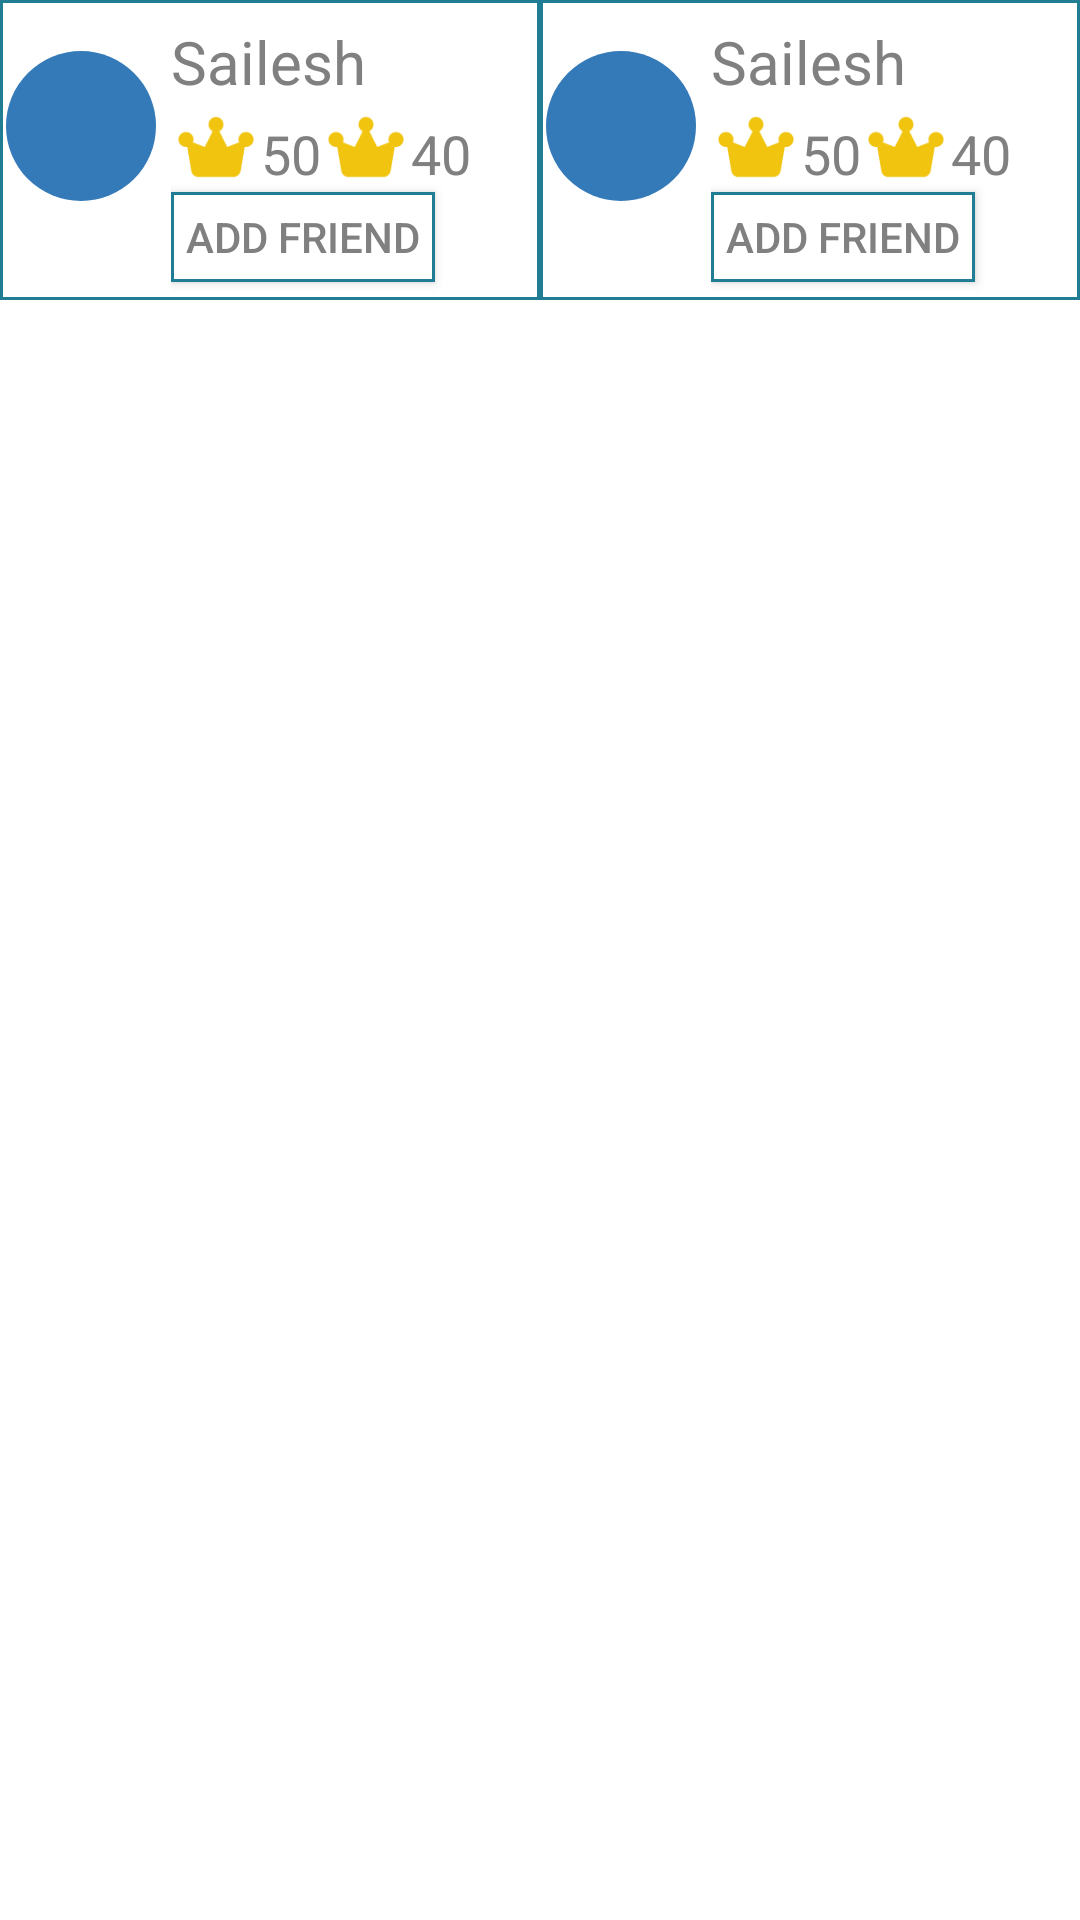

Icon click points for this 1080 × 1920 phone screenshot, format (x,y):
gold: (216,147), (366,147), (756,147), (906,147)
